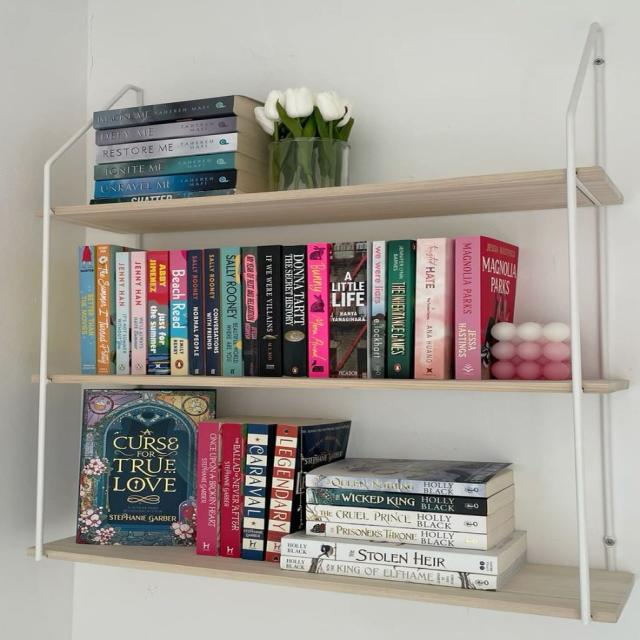book: (281, 538, 497, 574), (281, 555, 496, 591), (413, 239, 453, 378), (306, 521, 487, 550), (330, 241, 368, 378), (306, 506, 486, 534), (306, 489, 488, 516), (240, 423, 276, 559), (94, 96, 236, 130), (306, 473, 486, 498), (265, 426, 298, 561), (384, 240, 416, 378), (97, 133, 239, 163), (94, 170, 237, 199), (93, 153, 236, 181), (97, 117, 238, 145), (218, 421, 246, 558), (456, 237, 481, 380), (256, 247, 282, 377), (307, 243, 330, 378), (283, 245, 306, 378), (196, 423, 219, 555), (220, 247, 243, 376), (146, 251, 169, 374), (368, 241, 387, 378), (170, 251, 189, 375), (204, 249, 221, 375), (130, 252, 147, 374), (80, 245, 96, 374), (91, 189, 236, 203), (187, 251, 203, 374), (243, 247, 258, 376), (96, 245, 110, 374), (116, 252, 129, 374)
candle: (490, 322, 570, 380)
flowers: (255, 87, 353, 190)
